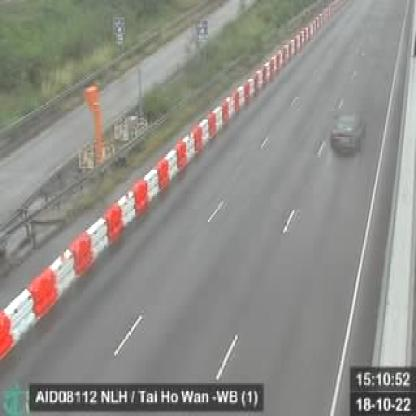Car: (326, 109, 367, 160)
